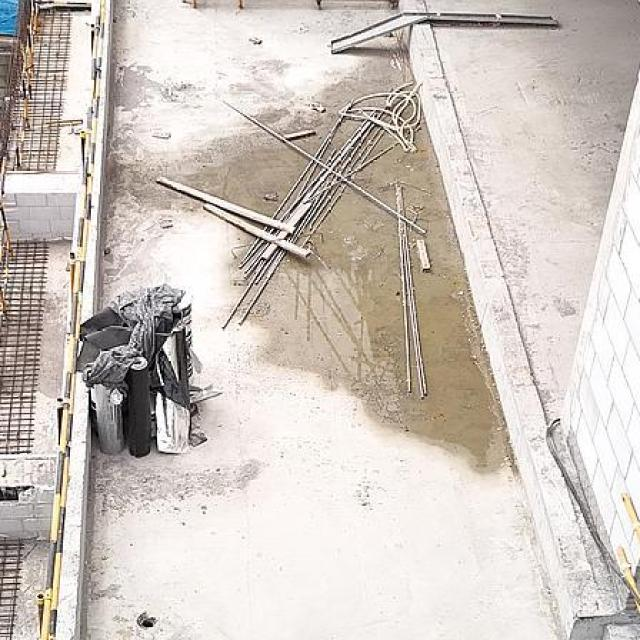edge_guardrail: (34, 0, 104, 640), (12, 2, 38, 171), (615, 491, 640, 618), (0, 153, 16, 314)
